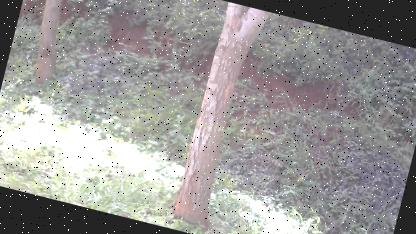tree: (161, 0, 274, 232), (15, 0, 85, 94)
